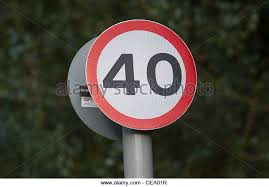Speed_limit_40km: (86, 19, 199, 131)
